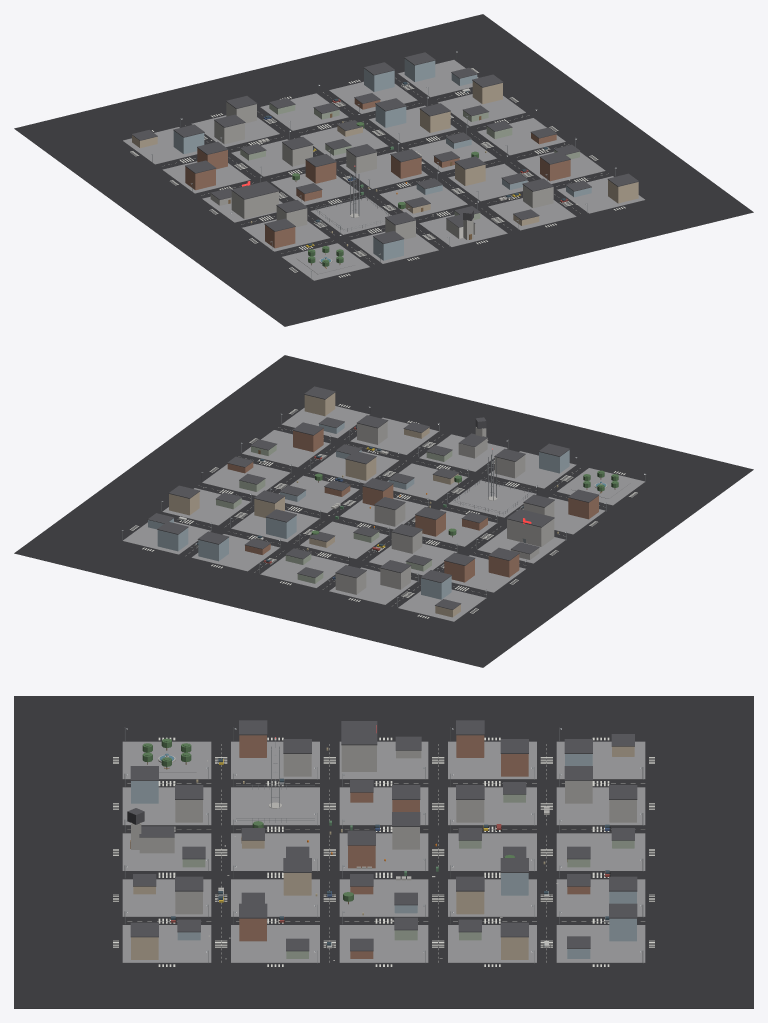
The model's file is city_district_01.glb.
The picture shows the model from 3 angles, top to bottom: view 1: azimuth 30°, elevation 25°; view 2: azimuth 150°, elevation 25°; view 3: azimuth 270°, elevation 25°; orthographic projection. The views are drawn at different scales.
Visible parts, largest first — view 1: CityStatic; view 2: CityStatic; view 3: CityStatic.
Boxes of the visible parts, x1,y1,x2,y2 form: CityStatic: (14,14,753,326); CityStatic: (14,355,753,667); CityStatic: (14,696,753,1008).
Bounding box in the file's own units: 300 × 30.92 × 300.
